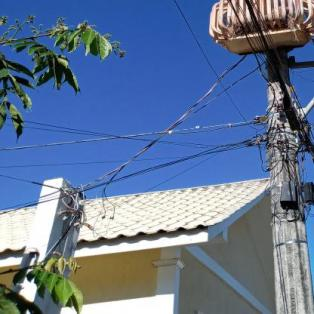Poste: (243, 0, 314, 311)
